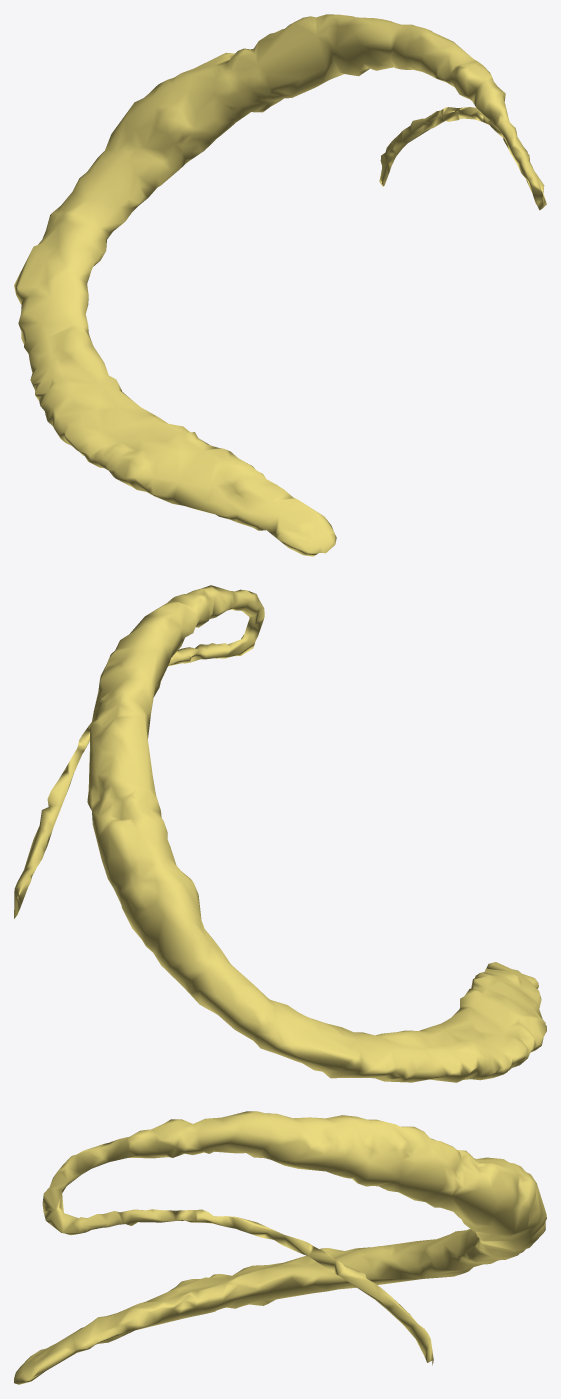
The model's file is choroid-plexus-r.glb.
The picture shows the model from 3 angles, top to bottom: view 1: azimuth 30°, elevation 25°; view 2: azimuth 150°, elevation 25°; view 3: azimuth 270°, elevation 25°; orthographic projection. The views are drawn at different scales.
Parts seen in each view (by area): view 1: Choroid plexus.r; view 2: Choroid plexus.r; view 3: Choroid plexus.r.
Boxes of the visible parts, box(x1,y1,x2,y2) form: Choroid plexus.r: box(14, 14, 546, 556); Choroid plexus.r: box(14, 585, 546, 1082); Choroid plexus.r: box(14, 1111, 546, 1384).
Bounding box in the file's own units: 0.0363 × 0.0329 × 0.0421.
